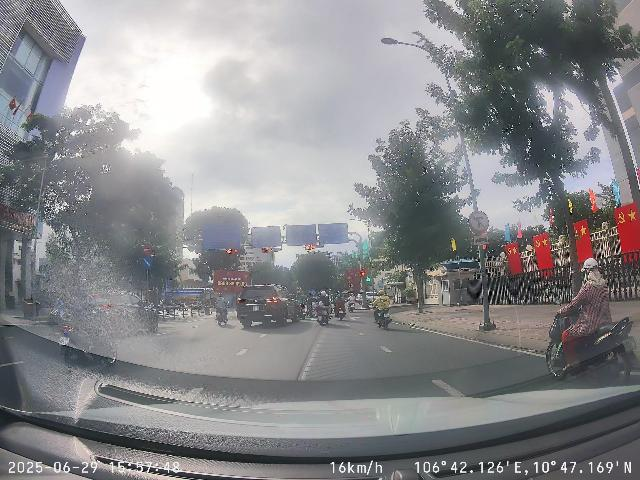137-cam-re-trai-va-re-phai: (468, 210, 489, 233)
